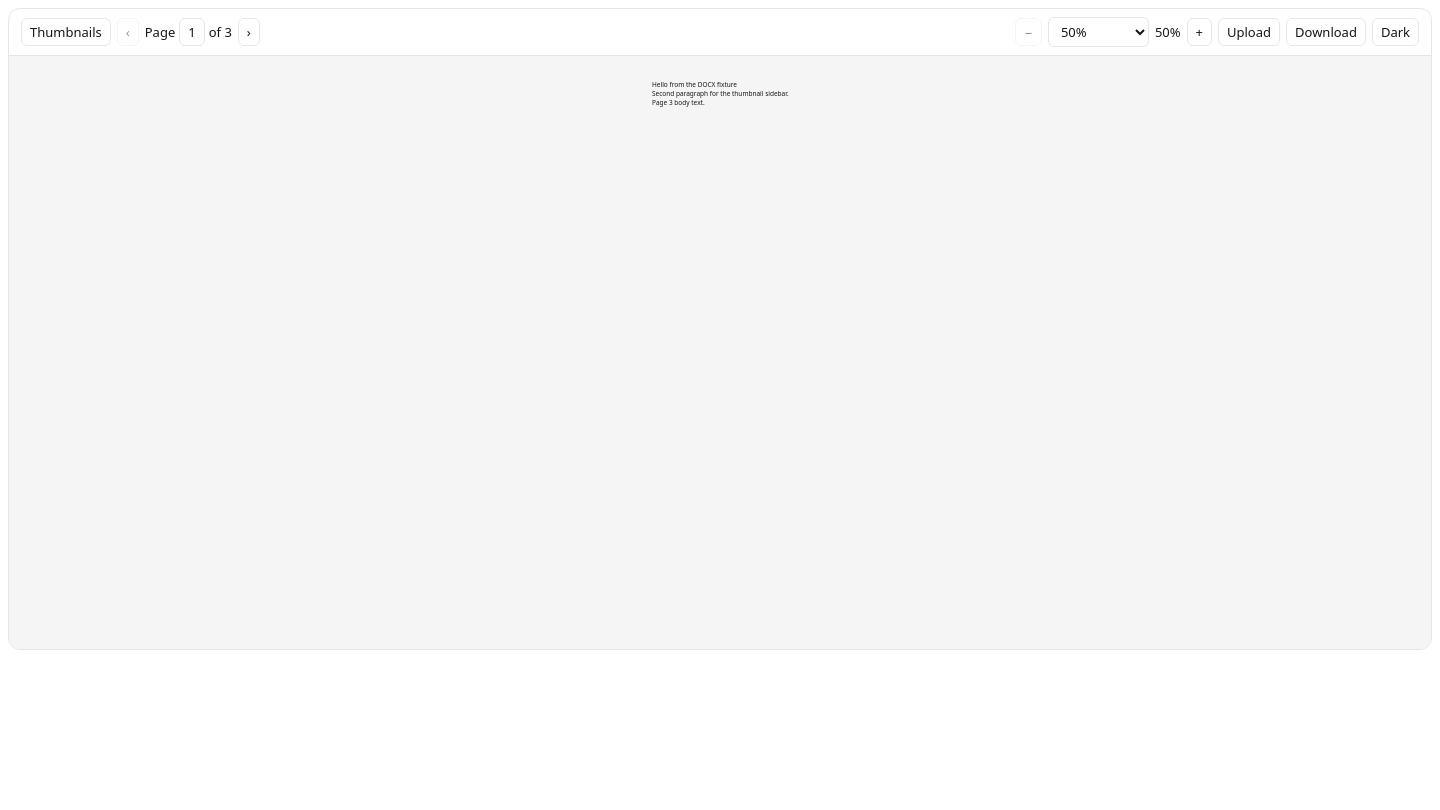
Test: DocxViewer › toggles the thumbnail sidebar from the toolbar
This screenshot has width=1440, height=810.
Click the button with aria-label "Toggle thumbnails": (66, 32) [21,18,111,46]
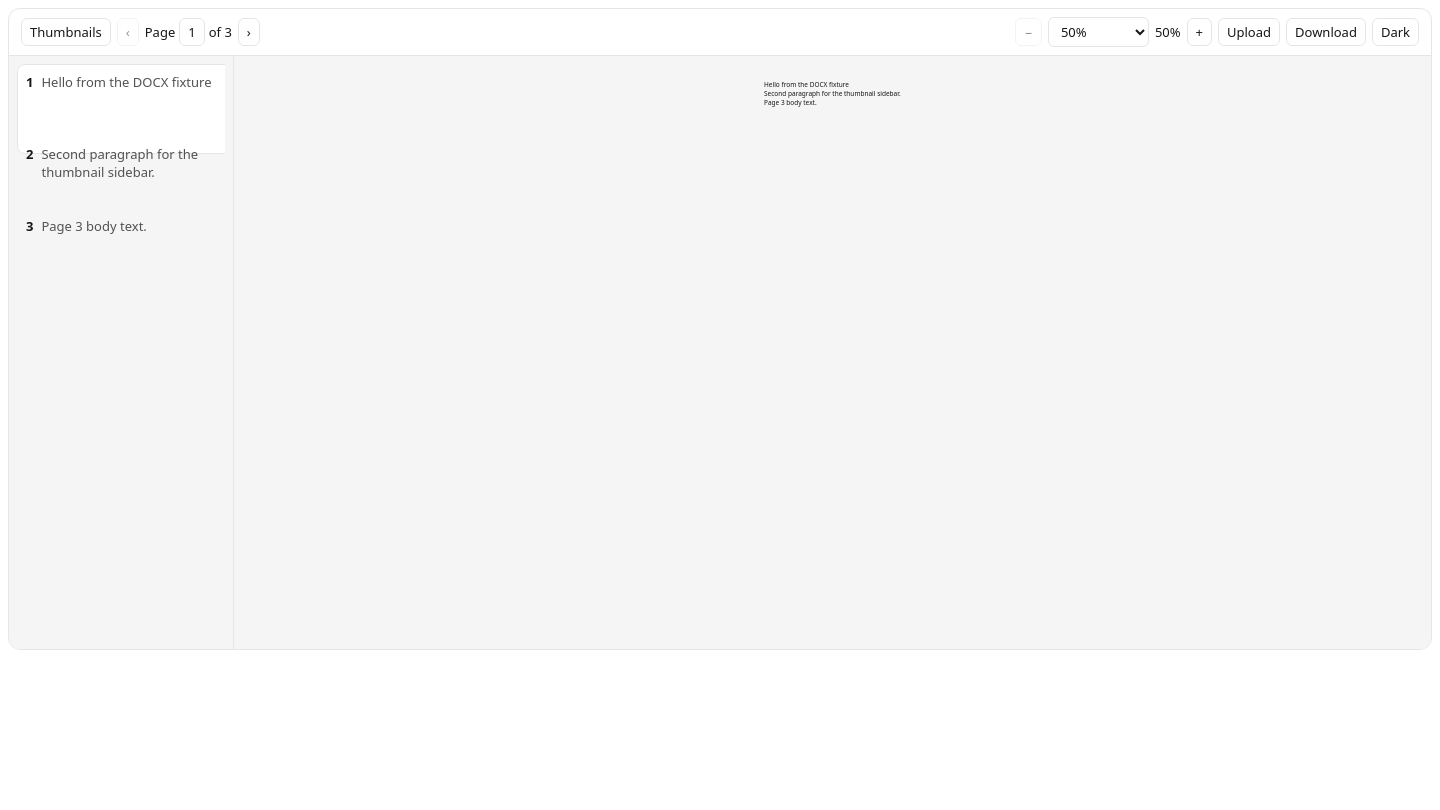
Check: the element with test id "docx-thumbnails" is shown, box [9,56,234,649]
Check: the number of options is 3, box [17,64,225,154]; [26,145,198,181]; [26,217,147,235]
Check: the option with aria-label "Page 1" is shown, box [17,64,225,154]
Click the button with aria-label "Toggle thumbnails": (66, 32) [21,18,111,46]
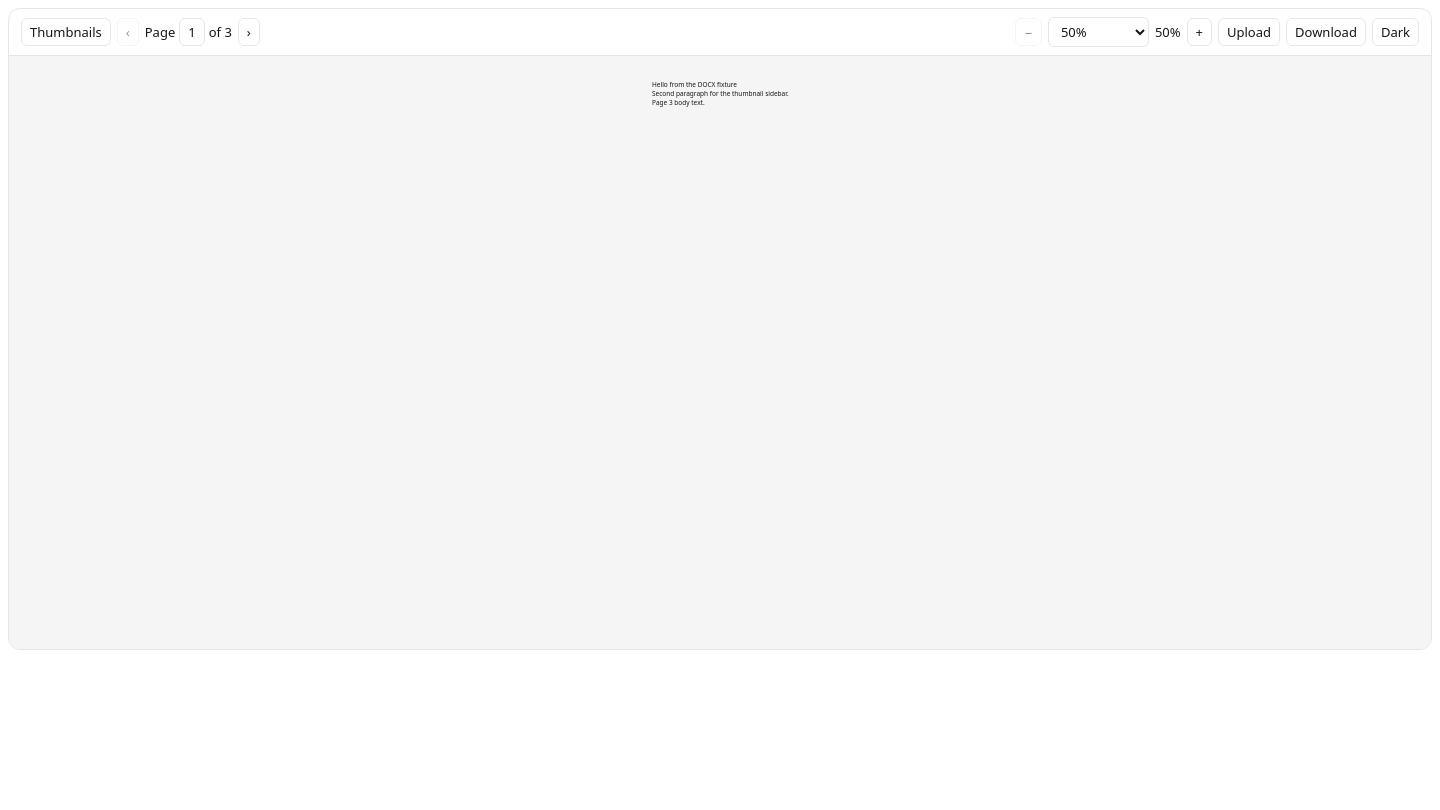
Check: the element with test id "docx-thumbnails" is gone
